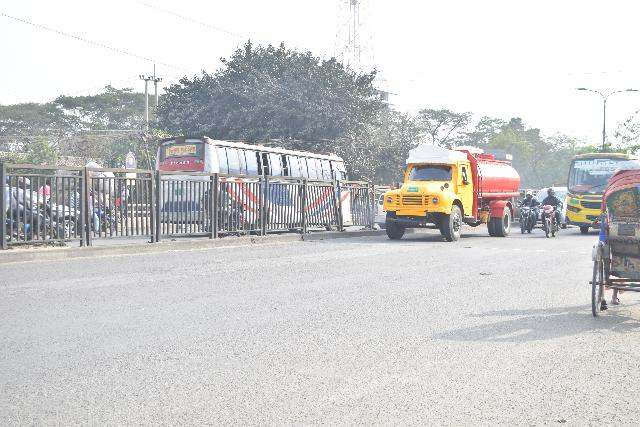bus: (566, 149, 633, 232)
motorcycle: (530, 190, 562, 240), (517, 193, 538, 240)
truck: (154, 130, 353, 228), (380, 136, 518, 248)
